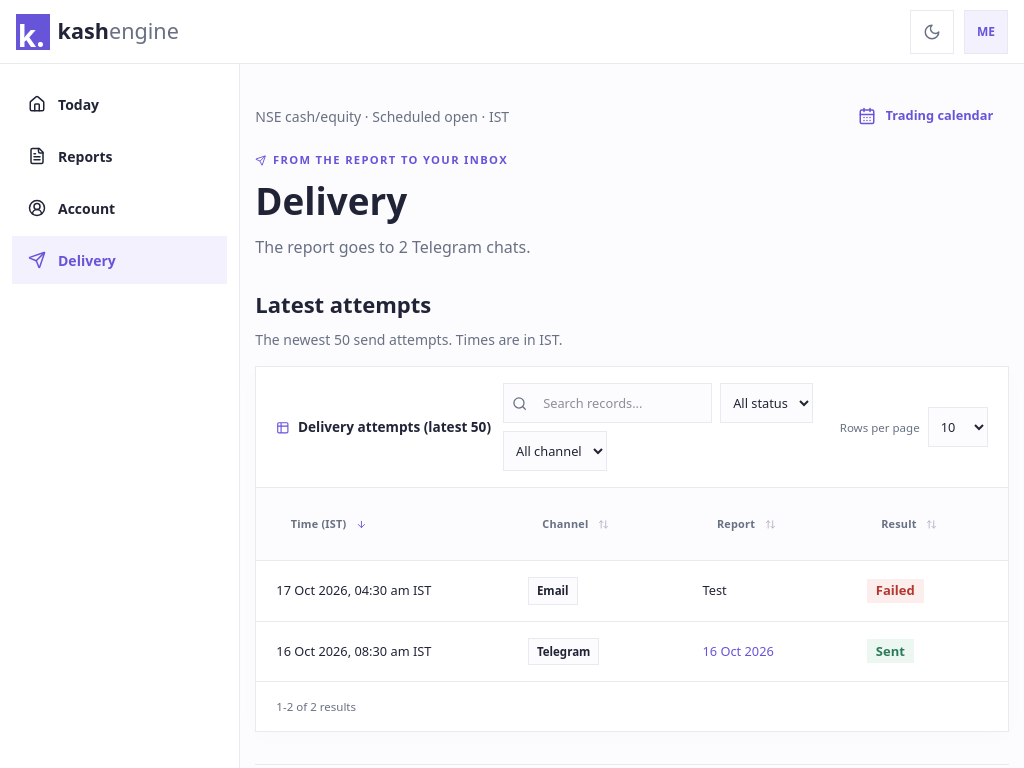
Test: navigates to the React report detail without leaving the app
The width and height of the screenshot is (1024, 768).
Step 1. Click the link "16 Oct 2026" → (738, 651), box 702,642 -> 774,660
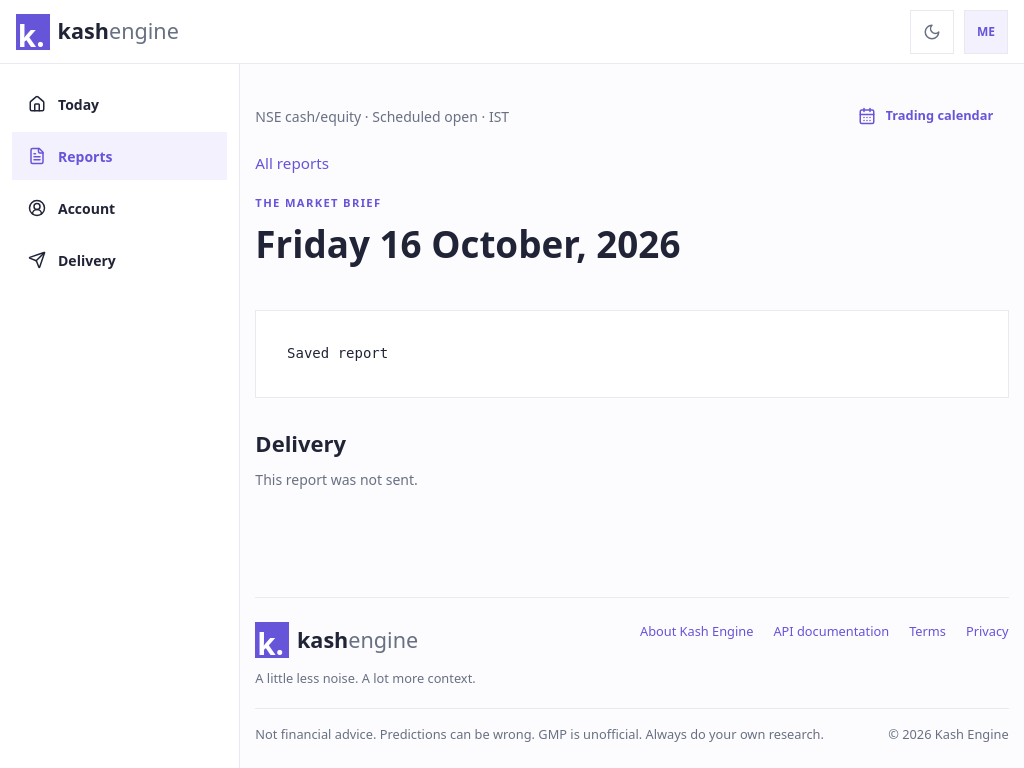
Check: the text "Saved report" is shown, box 255,310 -> 1009,398
